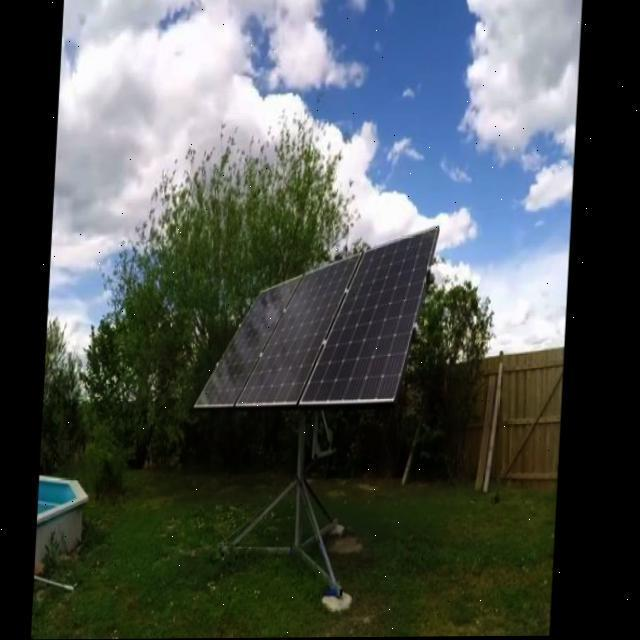Normal Solar Panel: (306, 230, 441, 406), (242, 258, 362, 408), (200, 278, 304, 410)
